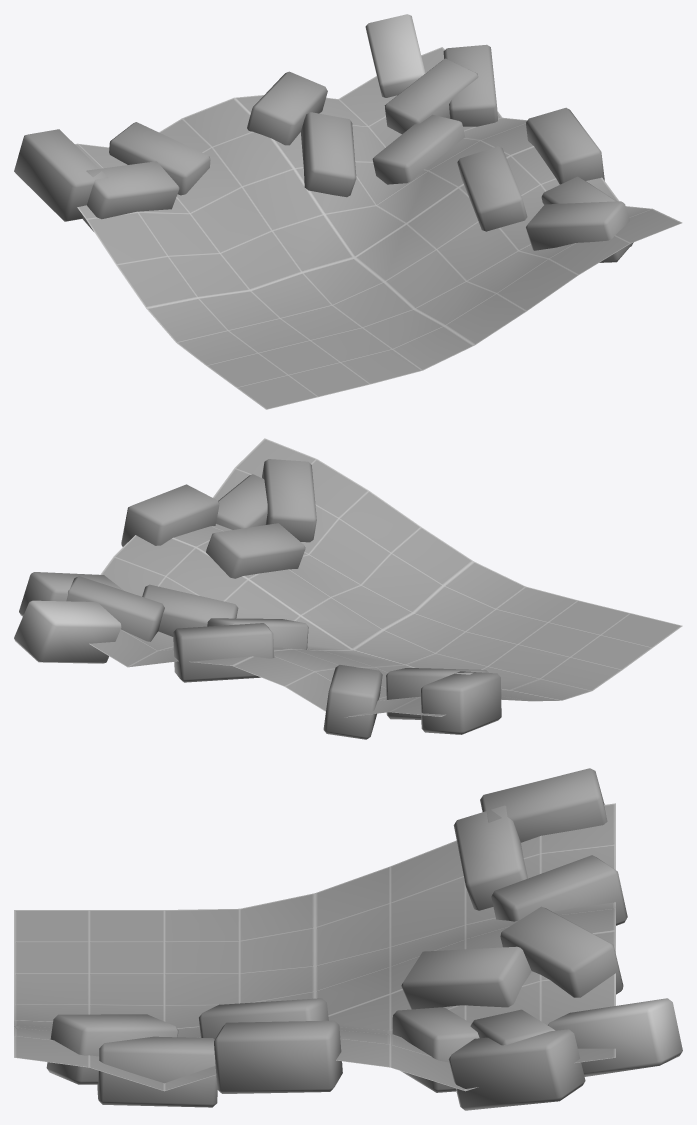
The model's file is proto_debris_two_sided_corner_01.fbx.
3 renders of one model, top to bottom at view 1: azimuth 30°, elevation 25°; view 2: azimuth 150°, elevation 25°; view 3: azimuth 270°, elevation 25°, orthographic. The views are drawn at different scales.
Parts seen in each view (by area): view 1: proto_debris_two_sided_corner_02; view 2: proto_debris_two_sided_corner_02; view 3: proto_debris_two_sided_corner_02.
Boxes of the visible parts, x1,y1,x2,y2 form: proto_debris_two_sided_corner_02: (14,14,682,409); proto_debris_two_sided_corner_02: (14,438,682,739); proto_debris_two_sided_corner_02: (14,768,682,1110).
Bounding box in the file's own units: 221 × 52.41 × 222.
